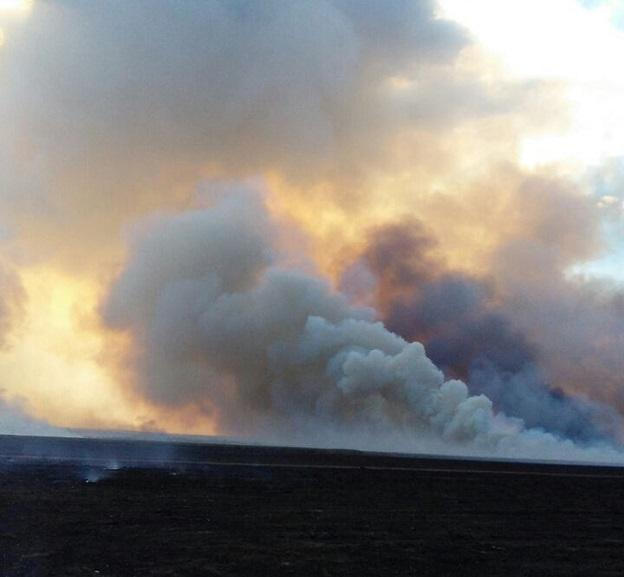smoke: (209, 274, 587, 449)
